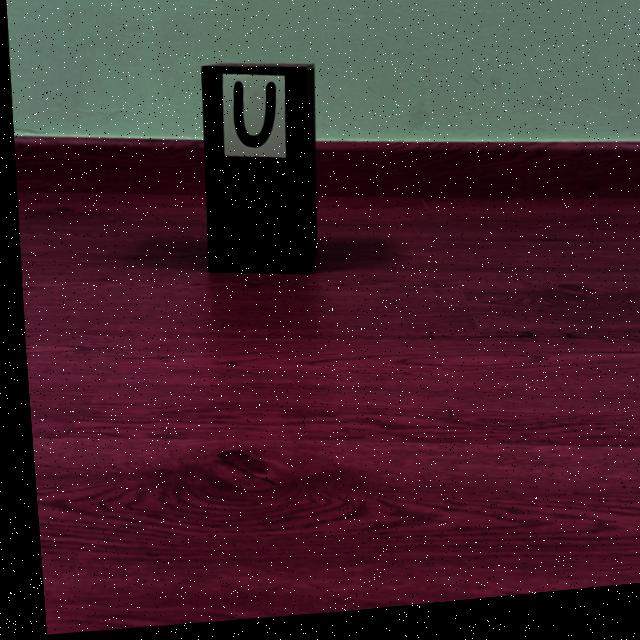U: (231, 86, 273, 152)
